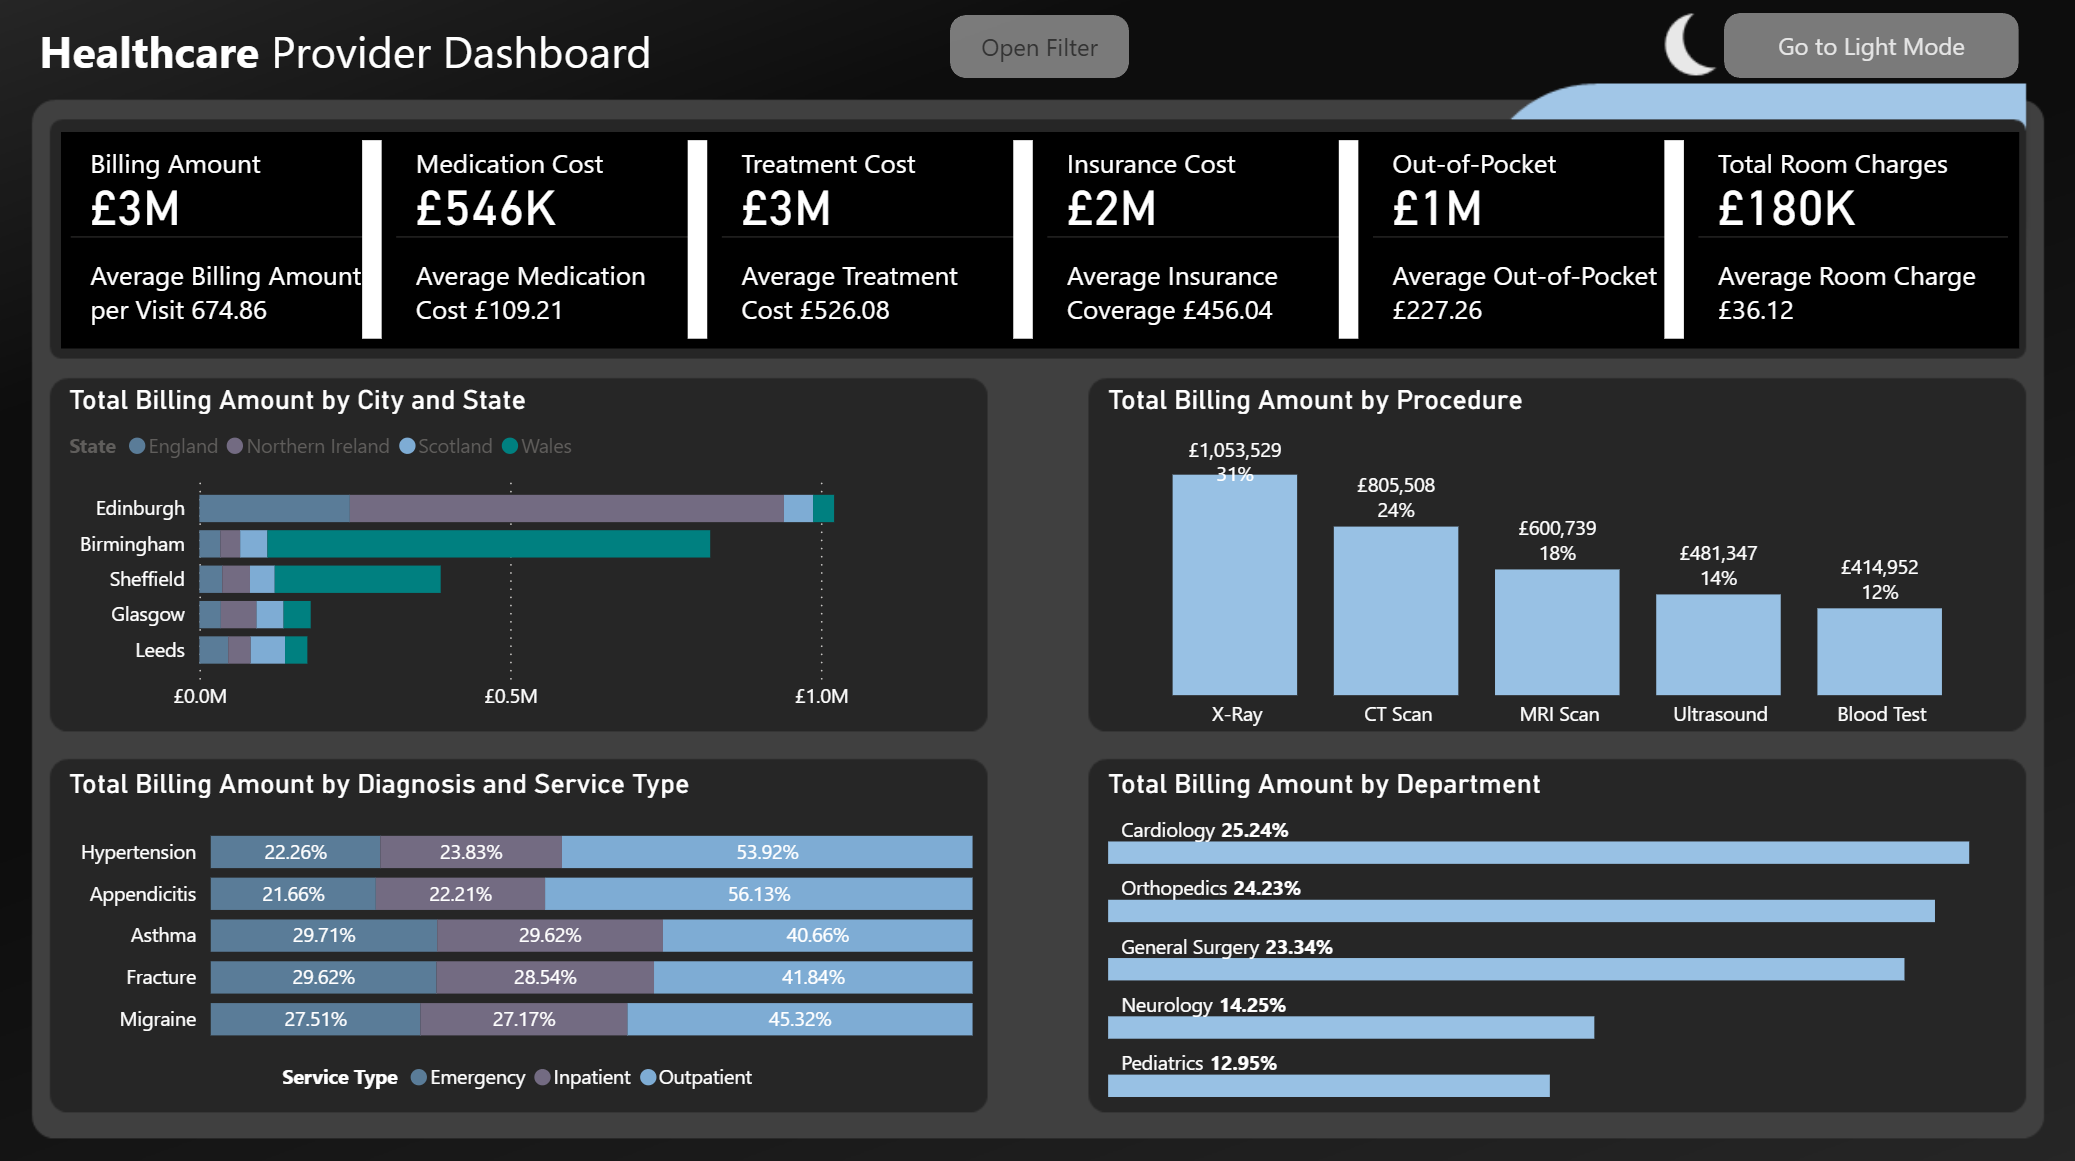

This screenshot's page, from the dashboard's own definition file:
{"tool":"powerbi","page":{"name":"Dark Mode","canvas":[1280,720],"ordinal":2},"visuals":[{"type":"cardVisual","fields":{"Data":["DAX Calculation.Total Billing Amount","DAX Calculation.Total Medication Cost","DAX Calculation.Total Treatment Cost","DAX Calculation.Total Insurance Covered","DAX Calculation.Out-of-Pocket","DAX Calculation.Total Room Charges"]},"box":[39.3,83.5,1202.9,132.7],"z":0},{"type":"actionButton","title":"Open Filter","box":[585.4,11.4,110,38.8],"z":1000,"group":"g1"},{"type":"barChart","fields":{"Category":["cities.City"],"Y":["DAX Calculation.Total Billing Amount"],"Series":["cities.State"]},"box":[39.3,237.7,565.2,210.7],"z":1000},{"type":"columnChart","fields":{"Category":["procedures.Procedure"],"Y":["DAX Calculation.Total Billing Amount"]},"box":[677.6,237.7,564.6,221.8],"z":2000},{"type":"hundredPercentStackedBarChart","fields":{"Y":["DAX Calculation.Total Billing Amount"],"Category":["diagnoses.Diagnosis"],"Series":["visits.Service Type"]},"box":[39.3,473.7,565.2,208.9],"z":3000},{"type":"clusteredBarChart","title":"Total Billing Amount by Department","fields":{"Category":["departments.Department"],"Y":["DAX Calculation.Blank Measure","DAX Calculation.Total Billing Amount"]},"box":[677.6,473.7,564.6,208.9],"z":4000},{"type":"textbox","box":[20.7,10.4,599.8,53.1],"z":5000},{"type":"actionButton","title":"Go to Light Mode","box":[1061,10.4,181.2,39.9],"z":6000},{"type":"group","id":"g1","title":"Slicer Buttons","box":[585.4,11.4,109.8,39.2],"z":8000}]}

Visuals, with their boxes in screenshot pixels (x1, y1, x2, y2), scaled from the page's 1280x720 canvas onto the 2075x1161 screenshot:
cardVisual - DAX Calculation.Total Billing Amount x DAX Calculation.Total Medication Cost: Rect(64, 135, 2014, 349)
"Open Filter" actionButton: Rect(949, 18, 1127, 81)
barChart - cities.City x DAX Calculation.Total Billing Amount: Rect(64, 383, 980, 723)
columnChart - procedures.Procedure x DAX Calculation.Total Billing Amount: Rect(1098, 383, 2014, 741)
hundredPercentStackedBarChart - DAX Calculation.Total Billing Amount x diagnoses.Diagnosis: Rect(64, 764, 980, 1101)
"Total Billing Amount by Department" clusteredBarChart: Rect(1098, 764, 2014, 1101)
textbox: Rect(34, 17, 1006, 102)
"Go to Light Mode" actionButton: Rect(1720, 17, 2014, 81)
"Slicer Buttons" group: Rect(949, 18, 1127, 82)
